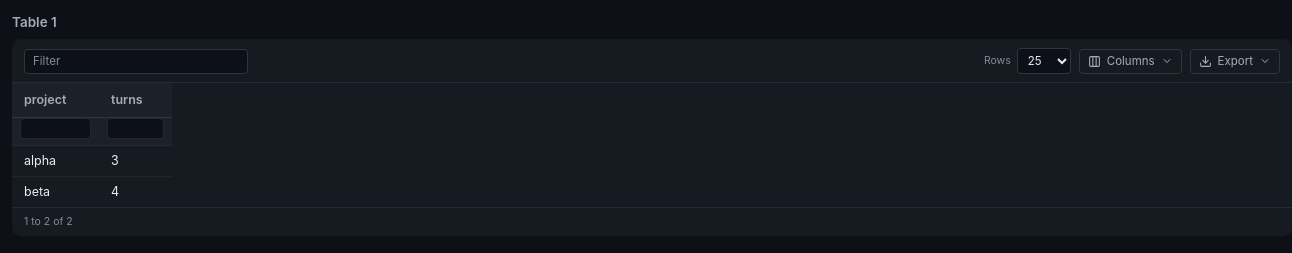
Scenario: the table controls every table now has › hides a column, and the hidden column leaves the search with it
Step 1. Click the button "Columns" → x=1130, y=61, box [1079,49,1182,74]
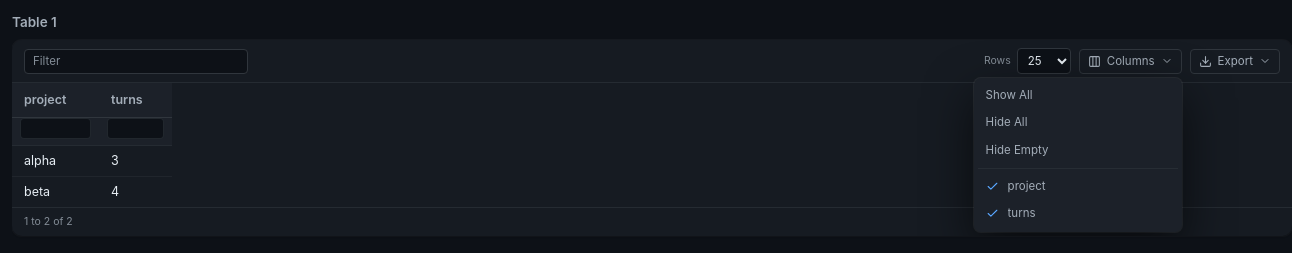
Step 2. Click the menu item "Hide All" → x=1078, y=123, box [978,109,1178,136]
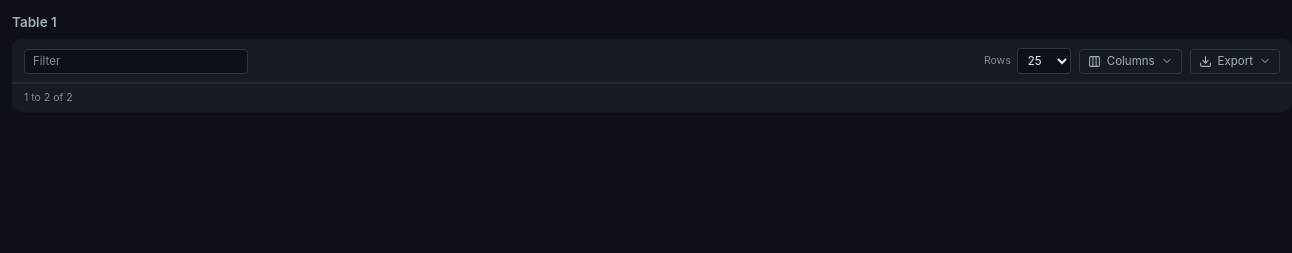
Step 3. Type "alpha" into the field with placeholder "Filter" → x=136, y=61, box [24,49,248,74]
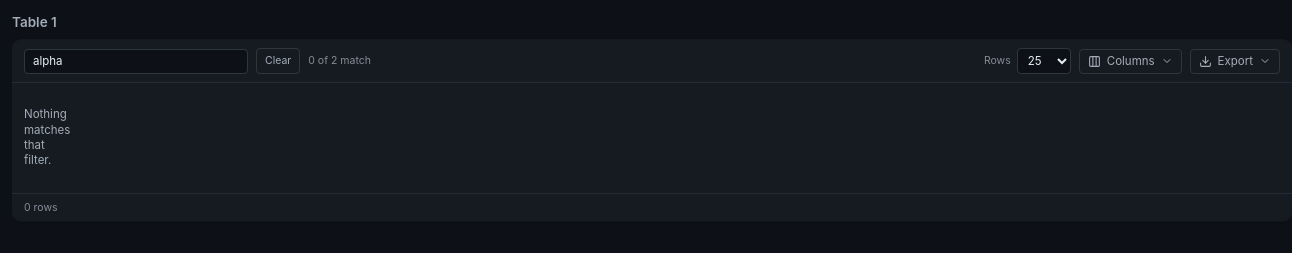
Expected: the text "0 of 2 match" is shown, [308,53,371,69]
